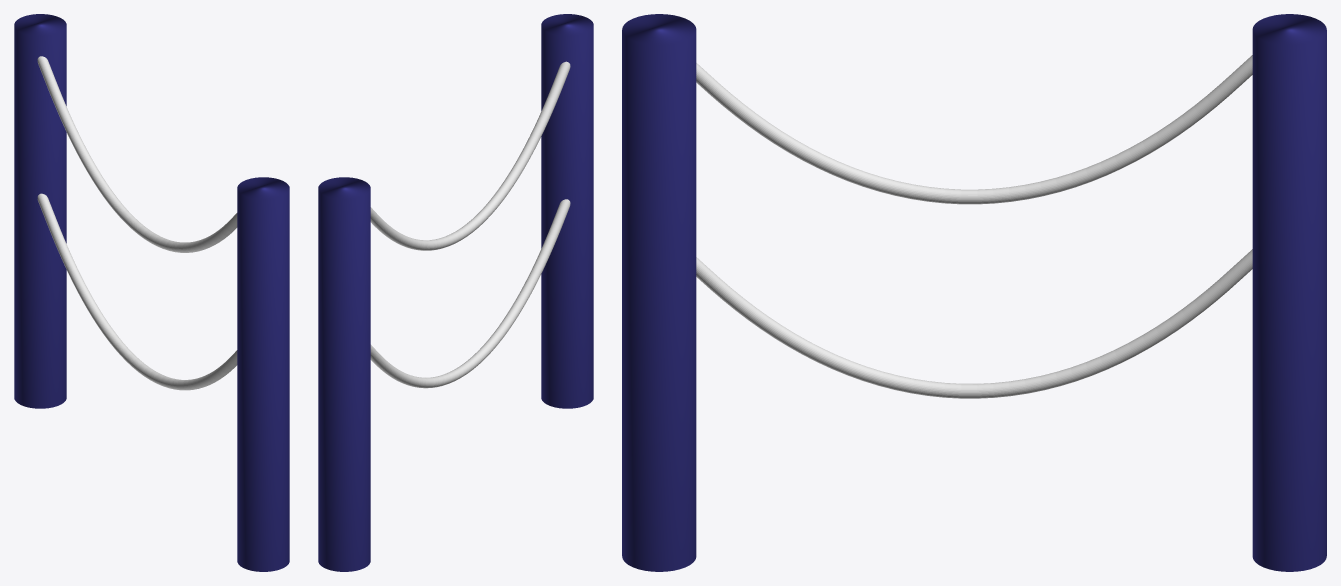
File: cerca.fbx
The picture shows the model from 3 angles, left to right: view 1: azimuth 30°, elevation 25°; view 2: azimuth 150°, elevation 25°; view 3: azimuth 270°, elevation 25°; orthographic projection. The views are drawn at different scales.
Visible parts, largest first — view 1: Cylinder.035, Cylinder.036, Cylinder.037, Cylinder.038; view 2: Cylinder.036, Cylinder.035, Cylinder.038, Cylinder.037; view 3: Cylinder.035, Cylinder.036, Cylinder.038, Cylinder.037.
Part boxes in pixels (<box>): Cylinder.035: <box>237,177,289,571</box>; Cylinder.036: <box>14,14,66,408</box>; Cylinder.037: <box>37,56,237,252</box>; Cylinder.038: <box>37,193,237,390</box>; Cylinder.036: <box>318,177,370,571</box>; Cylinder.035: <box>541,14,593,408</box>; Cylinder.038: <box>370,199,570,388</box>; Cylinder.037: <box>370,61,570,250</box>; Cylinder.035: <box>622,14,696,571</box>; Cylinder.036: <box>1252,14,1326,571</box>; Cylinder.038: <box>696,249,1252,398</box>; Cylinder.037: <box>696,55,1252,204</box>.
Bounding box in the file's own units: 8.05 × 62.87 × 76.26.
